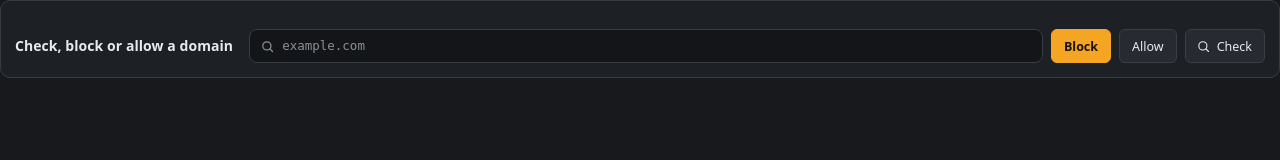
Test: Already one of your rules, while typing › reads your rules once for the whole name, and makes no DNS query
In the field named "Domain": (646, 46) [249,29,1043,63], type "sub.telemetry.example-iot.net"
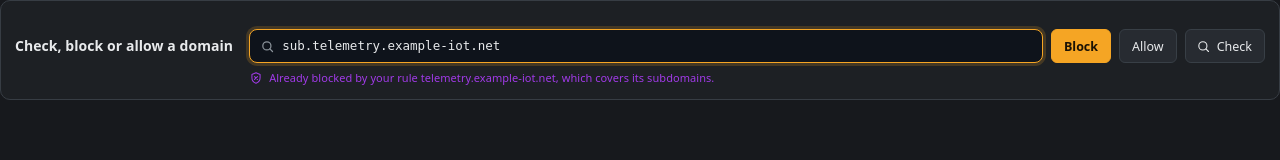
Expected: the text "Already blocked by your rule telemetry.example-iot.net, which covers its subdomains." is shown, [269,70,714,85]
